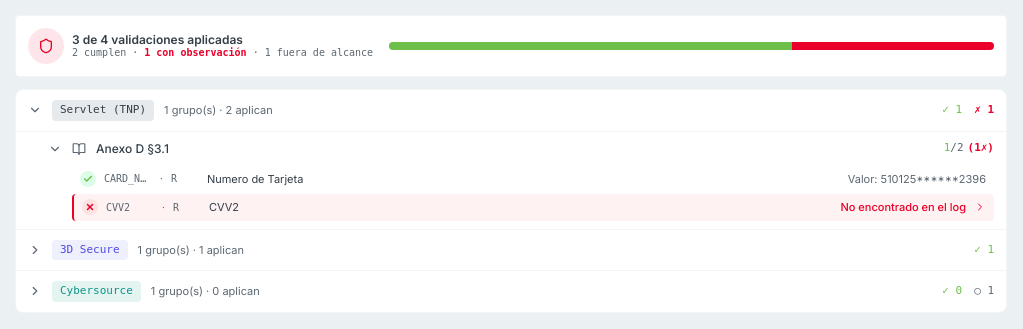
TransactionRuleTree › al hacer click en una capa colapsa su contenido
The width and height of the screenshot is (1023, 329).
Click the button "Servlet (TNP)" at x=103, y=110, box [16, 90, 1006, 130]
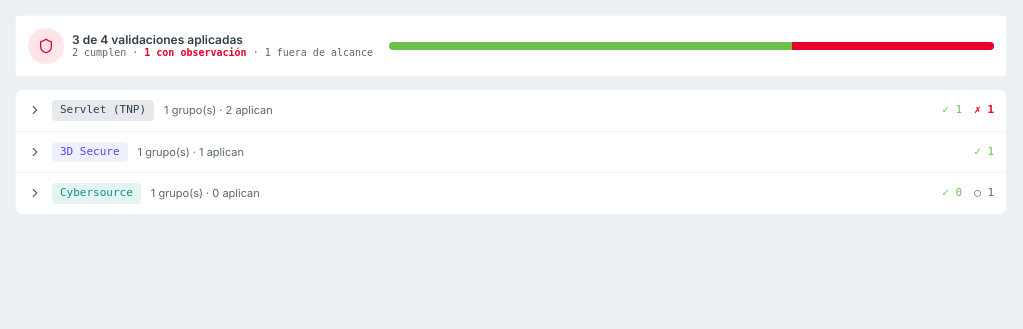
Expected: the button "Anexo D §3.1" is gone
